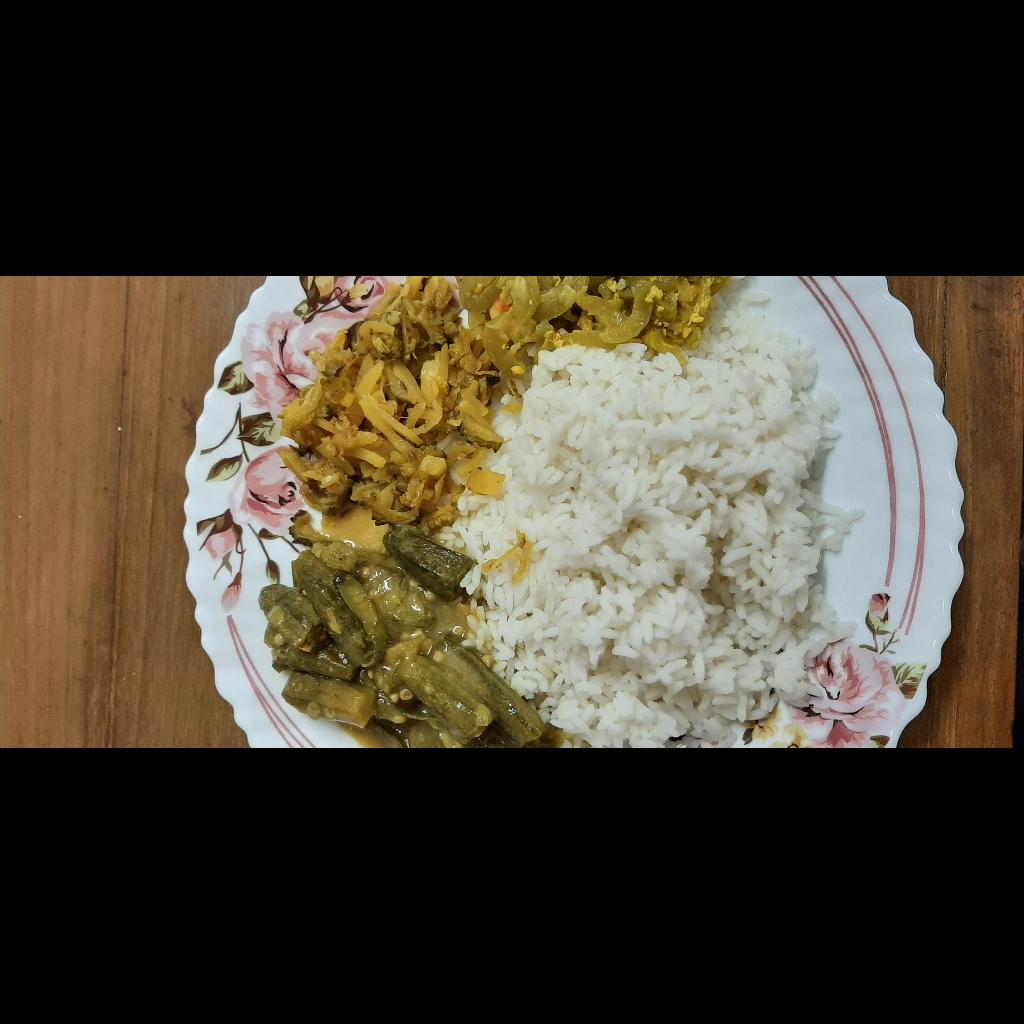chichinga-vaji: (351, 733, 472, 997)
korola-vaji: (340, 633, 472, 800), (199, 554, 288, 732)
okra: (0, 533, 220, 816)
potato: (248, 551, 423, 783)
rice: (1, 716, 454, 1024)
